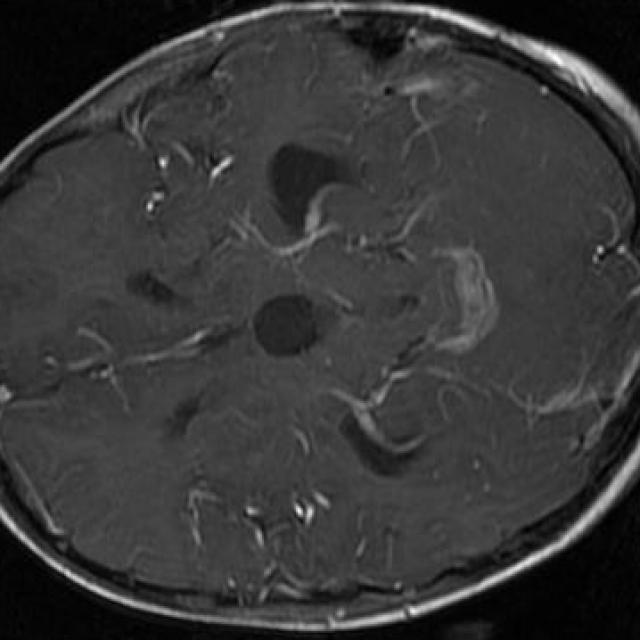glioma: (267, 143, 362, 238)
